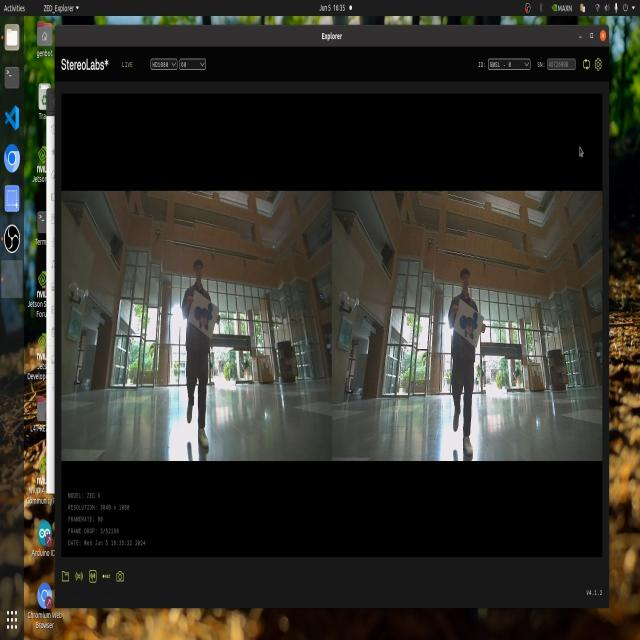blue: (193, 294, 220, 338), (454, 307, 484, 343)
